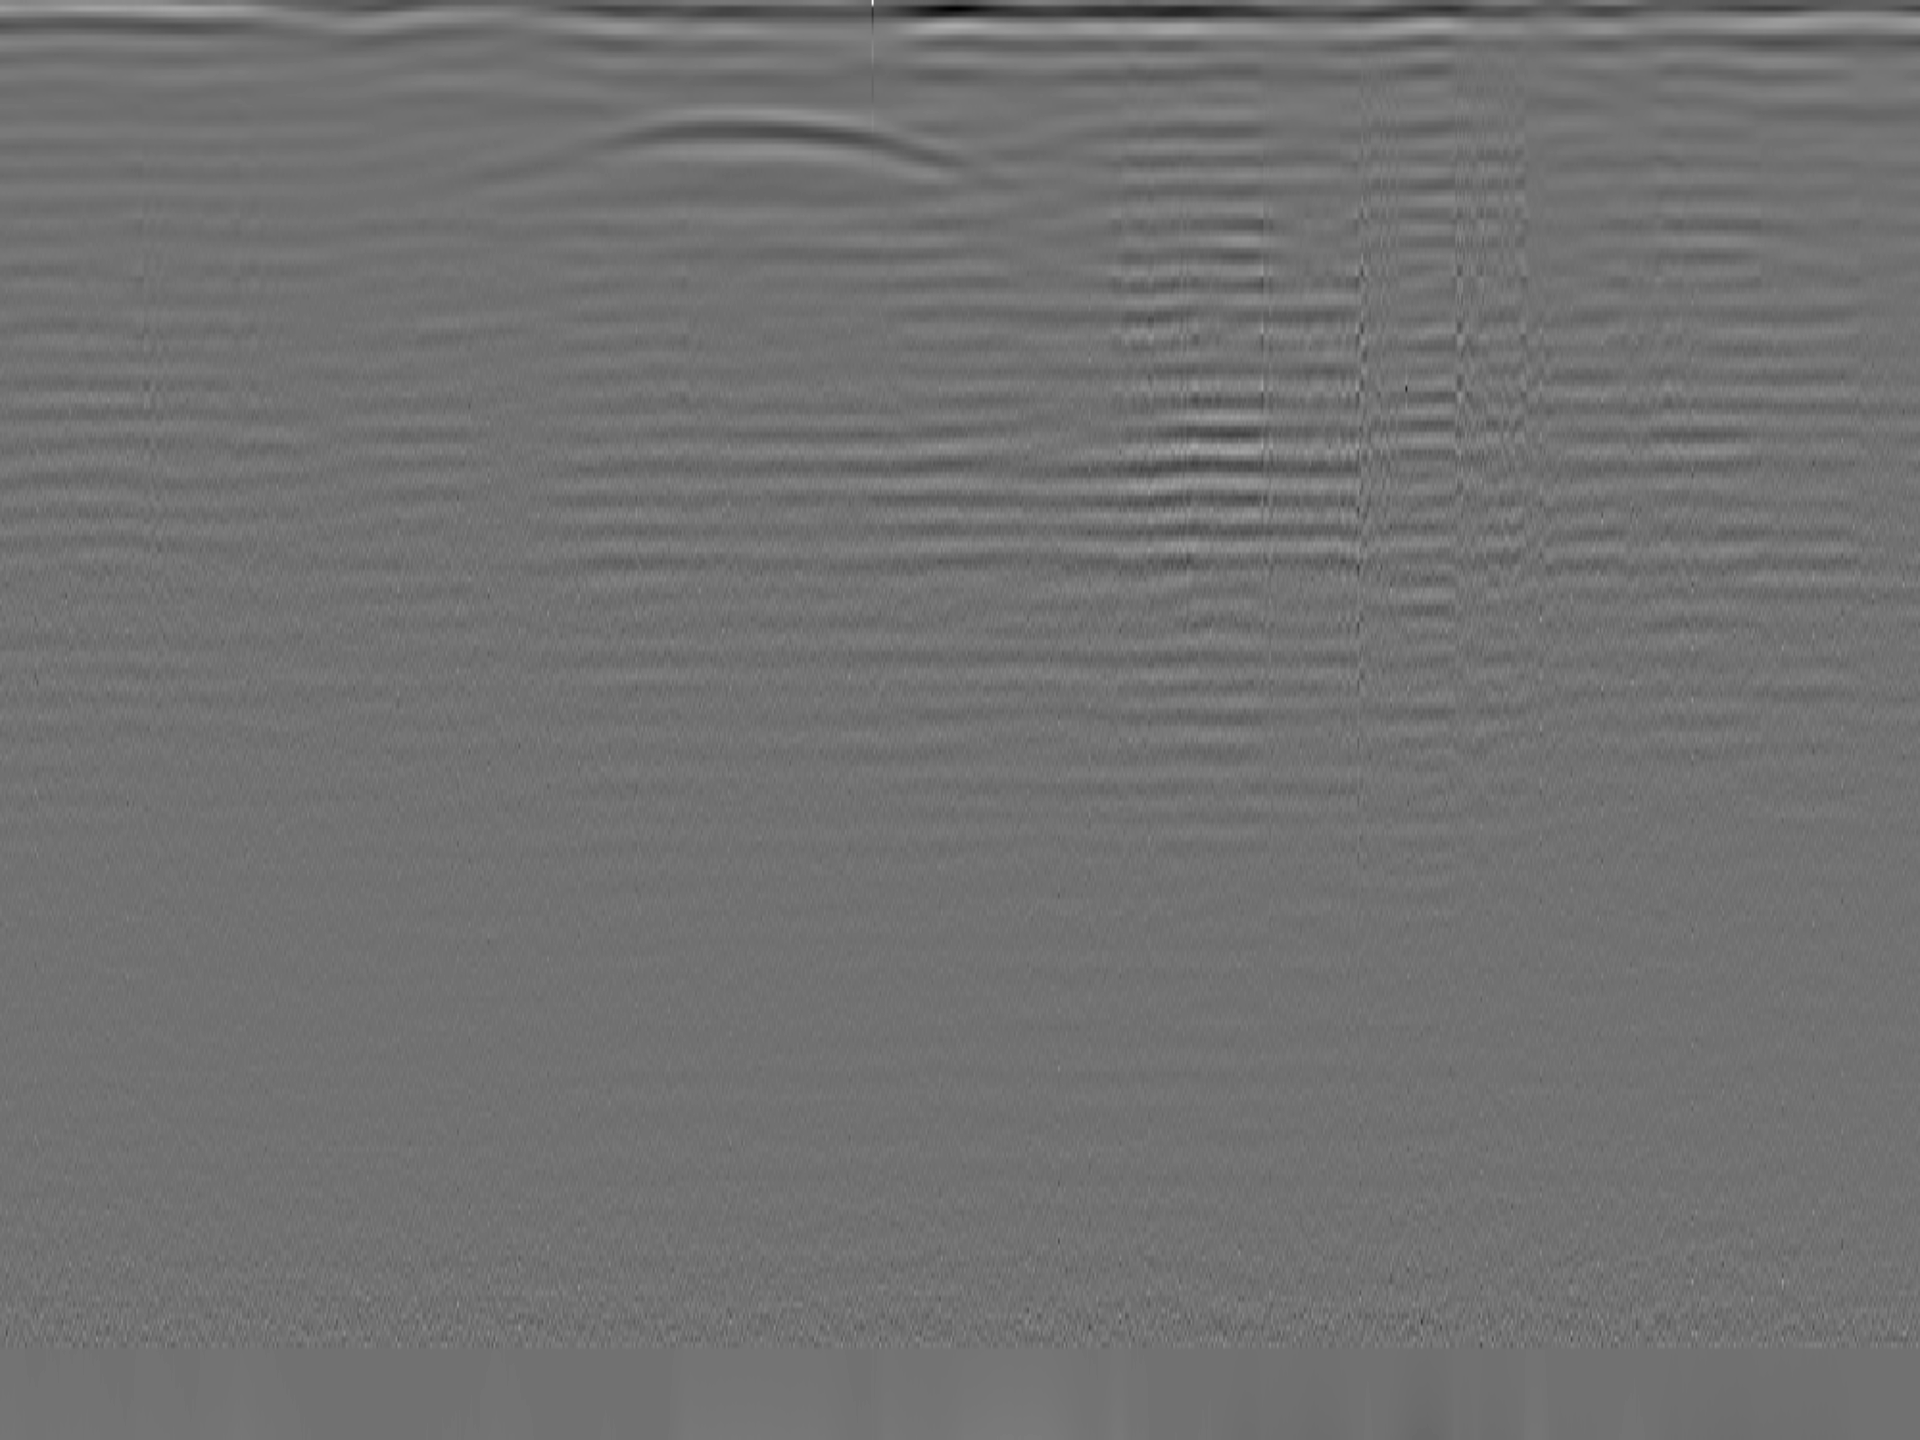Tunnel: (479, 109, 984, 191)
